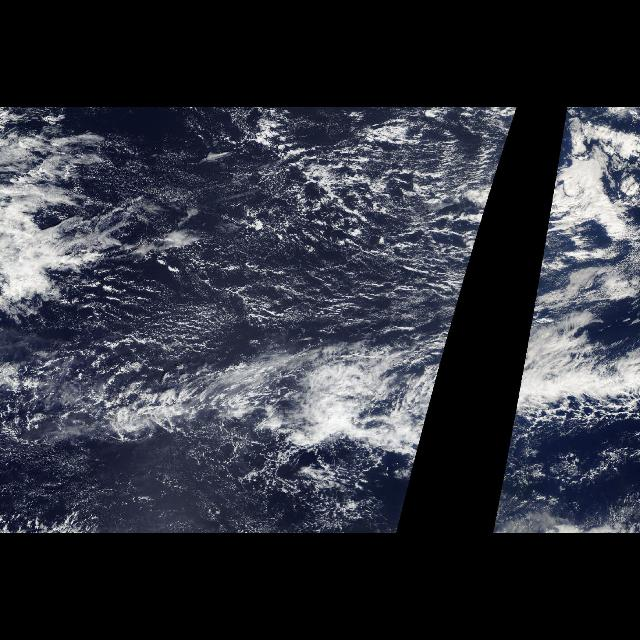Gravel: (100, 119, 486, 328)
Sugar: (196, 243, 462, 335)
